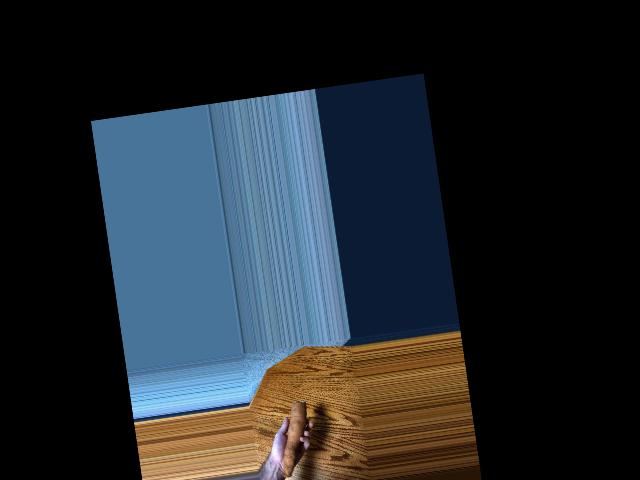sweet_potato: (271, 400, 317, 476)
